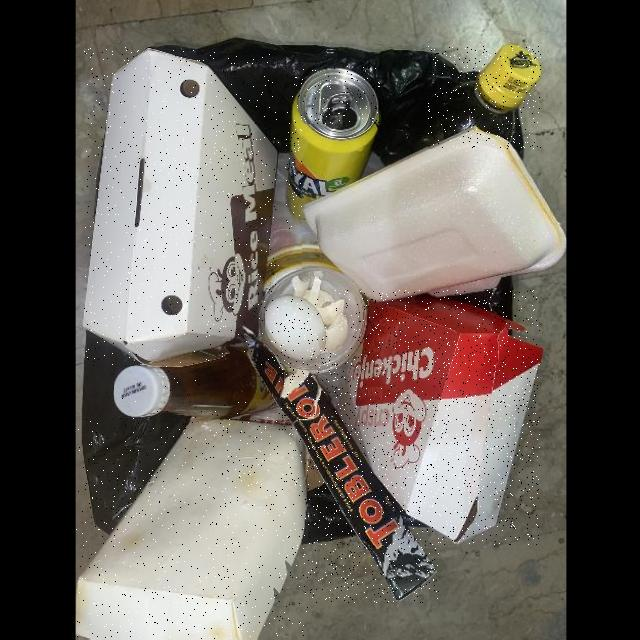biowaste: (265, 295, 327, 362), (292, 278, 335, 308), (327, 312, 349, 353), (323, 298, 345, 324)
glass: (114, 341, 279, 420)
metal: (286, 67, 380, 231)
paper: (84, 47, 279, 367), (319, 291, 540, 545), (247, 327, 439, 603), (77, 417, 308, 639)
plastic: (428, 46, 541, 149)
styrofoam: (302, 125, 566, 302)
